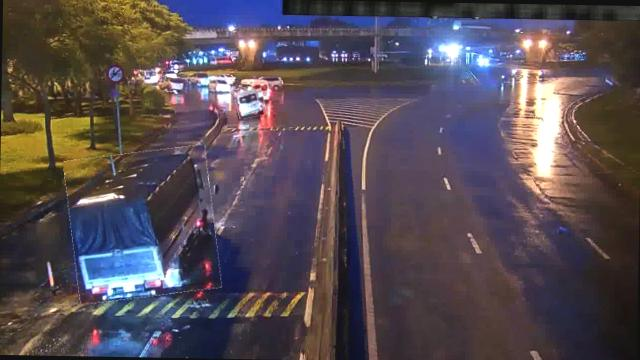Bus: (235, 85, 266, 119)
Car: (207, 76, 232, 92), (164, 77, 187, 92)
Truck: (65, 146, 219, 302)
